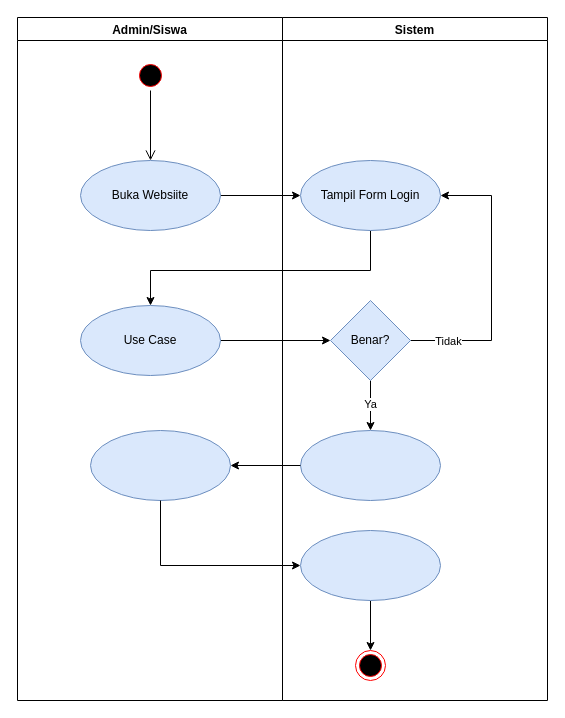
Some shapes in this 565 by 718 pixel diagram are drawn without their labels. Each missing label, with the centre of its shape:
Info Akun: the point at 160,465
Menampilkan Menu Kisi-Kisi Soal Olimpiade: the point at 370,565
Tampil Menu Utama: the point at 370,465
